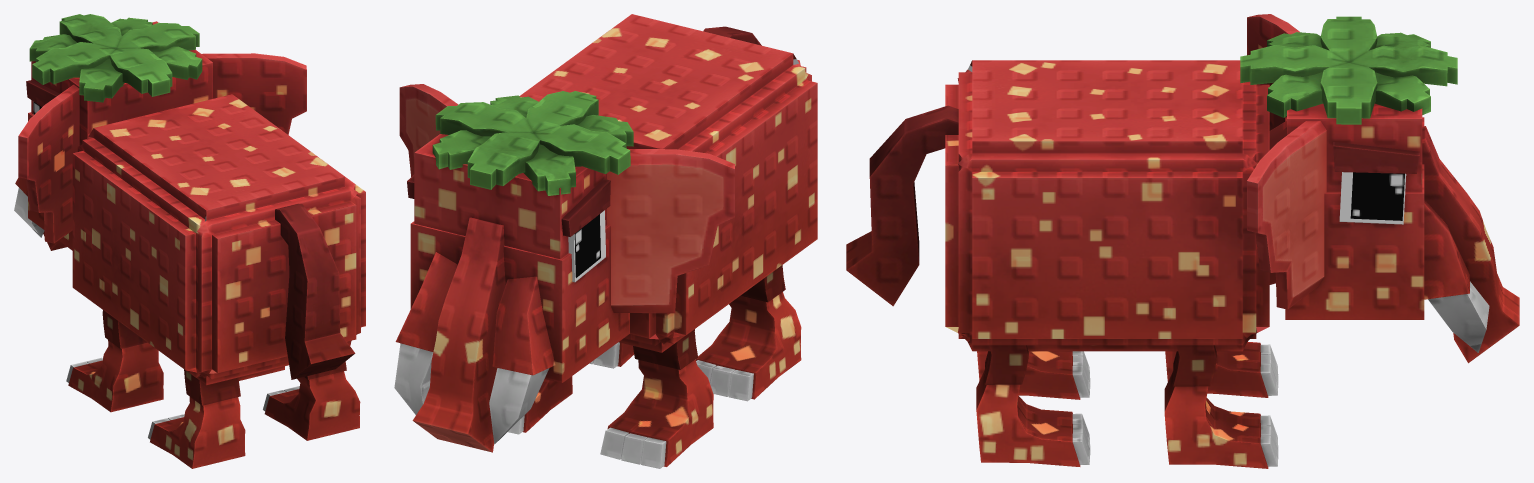
Rendered from Strawberry Elephant.fbx.
3 renders of one model, left to right at view 1: azimuth 30°, elevation 25°; view 2: azimuth 150°, elevation 25°; view 3: azimuth 270°, elevation 25°, orthographic. The views are drawn at different scales.
Visible parts, largest first — view 1: Strawberry Elephant; view 2: Strawberry Elephant; view 3: Strawberry Elephant.
Boxes of the visible parts, x1,y1,x2,y2 form: Strawberry Elephant: (14,14,365,468); Strawberry Elephant: (394,14,817,468); Strawberry Elephant: (846,14,1519,468).
Bounding box in the file's own units: 736 × 727 × 1241.
